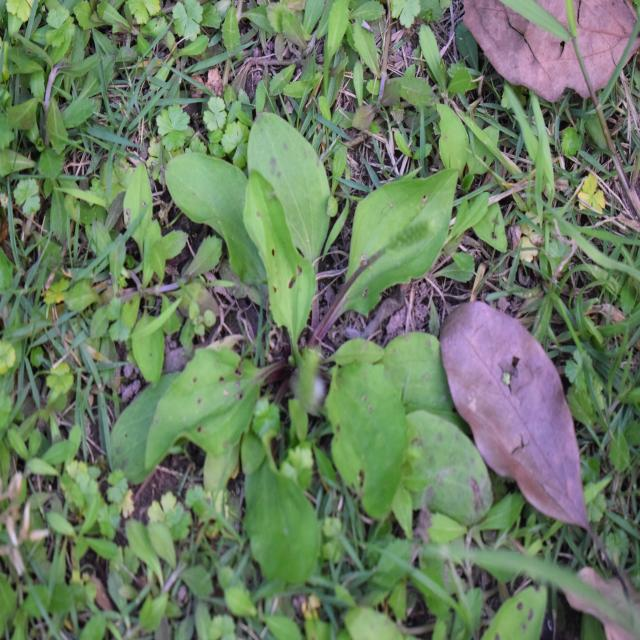plantain: (150, 107, 483, 539)
